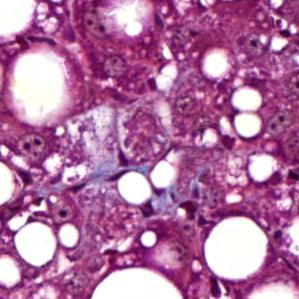steatosis: (200, 215, 269, 282), (12, 51, 66, 131), (15, 225, 57, 268), (115, 169, 151, 211), (200, 49, 234, 77), (230, 109, 262, 137), (251, 153, 278, 184), (230, 88, 263, 111)
